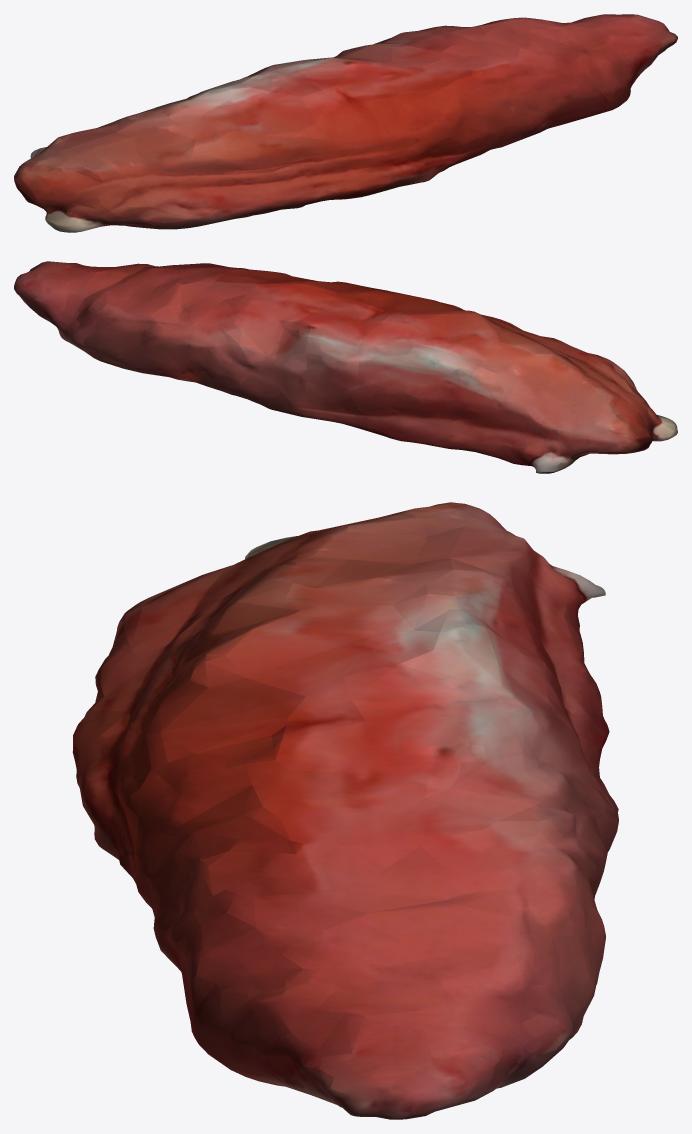
File: yamWalkyamWalk08.fbx
3 renders of one model, top to bottom at view 1: azimuth 30°, elevation 25°; view 2: azimuth 150°, elevation 25°; view 3: azimuth 270°, elevation 25°, orthographic. The views are drawn at different scales.
Visible parts, largest first — view 1: yamWalk08; view 2: yamWalk08; view 3: yamWalk08.
Boxes of the visible parts, x1,y1,x2,y2 form: yamWalk08: (14, 14, 677, 232); yamWalk08: (14, 261, 677, 473); yamWalk08: (72, 502, 618, 1119).
Bounding box in the file's own units: 0.1328 × 0.0128 × 0.0497.
Materials: 1 (1 with a texture image).
